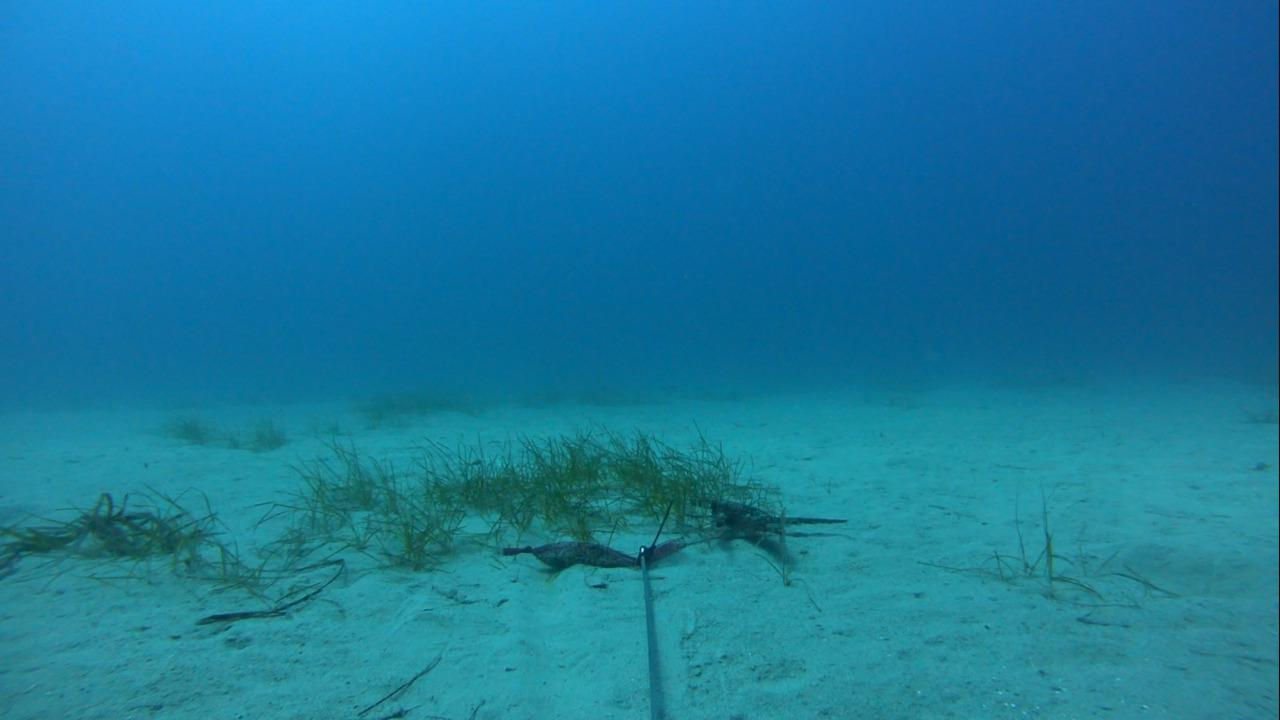dactylopterus: (687, 492, 858, 565)
